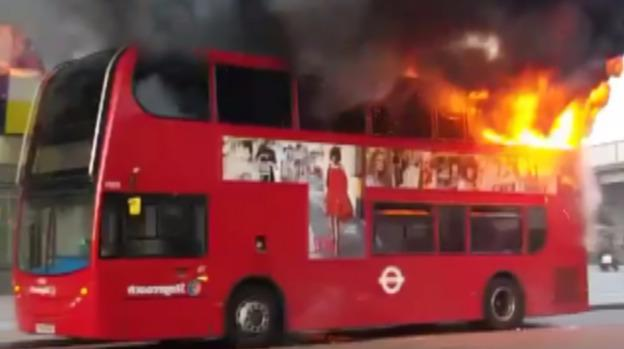fire: (444, 58, 615, 163)
